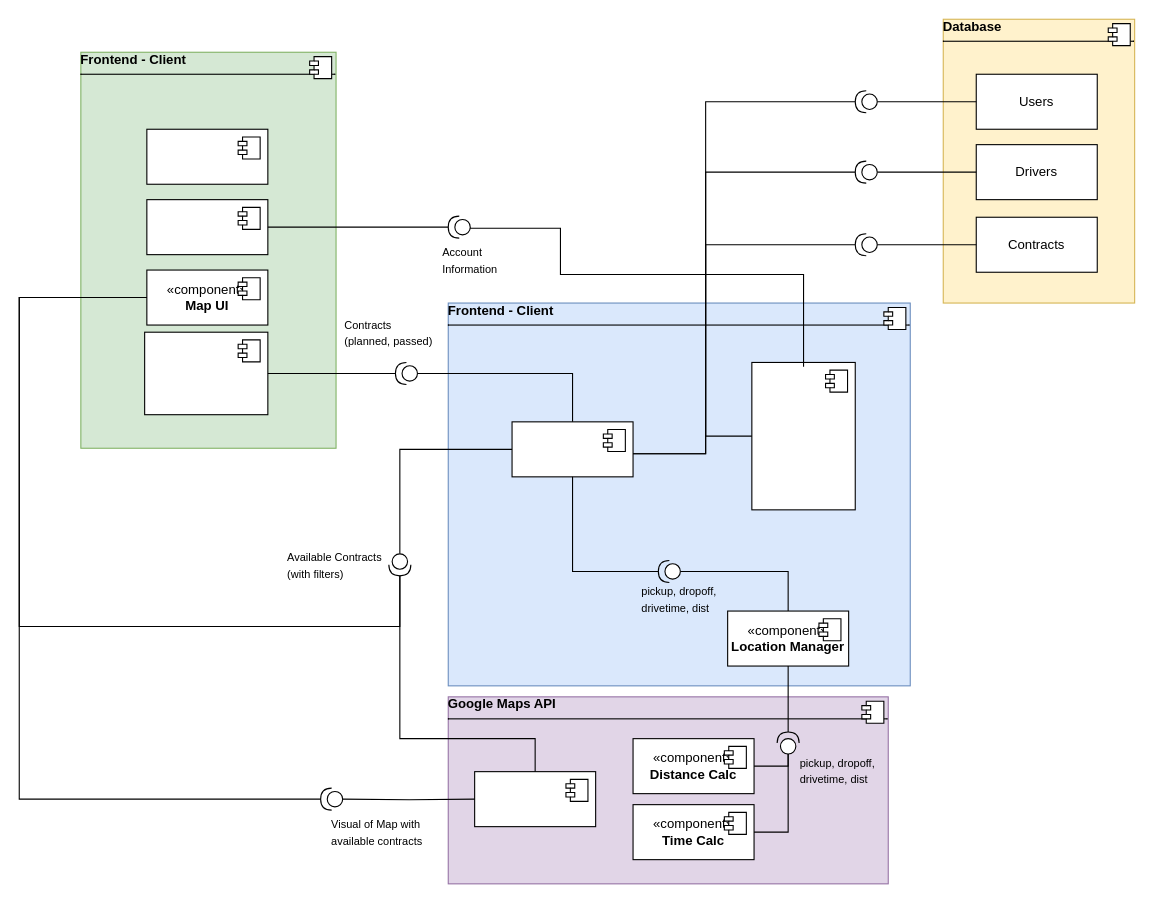
Some shapes in this 1154 by 903 pixel diagram are drawn without their labels. The shapes that lost their labels are listed below. From the top down, each one's centre as x and y in pixels, then its label:
the point at 207,156: «component» HomePage
the point at 207,227: «component» Account UI
the point at 206,373: «component» Contract UI
the point at 572,449: «component» Contract Management
the point at 803,435: «component» Account Management
the point at 535,799: «component» Map Vis
